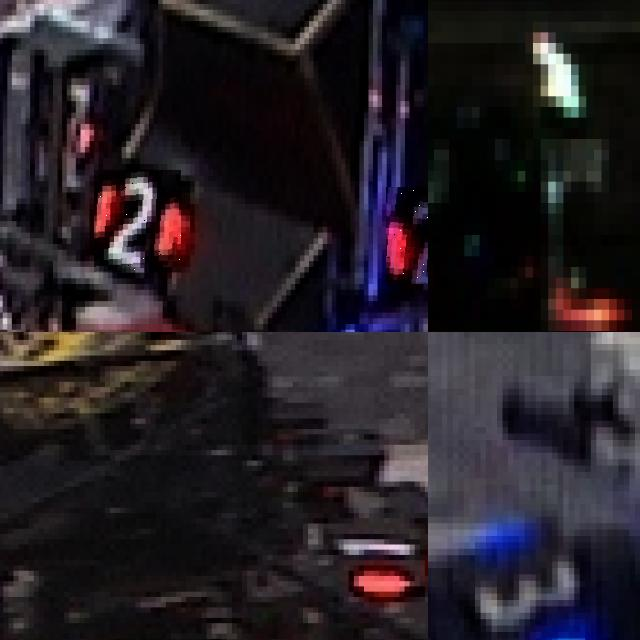R2: (94, 170, 181, 272), (386, 187, 428, 284)
